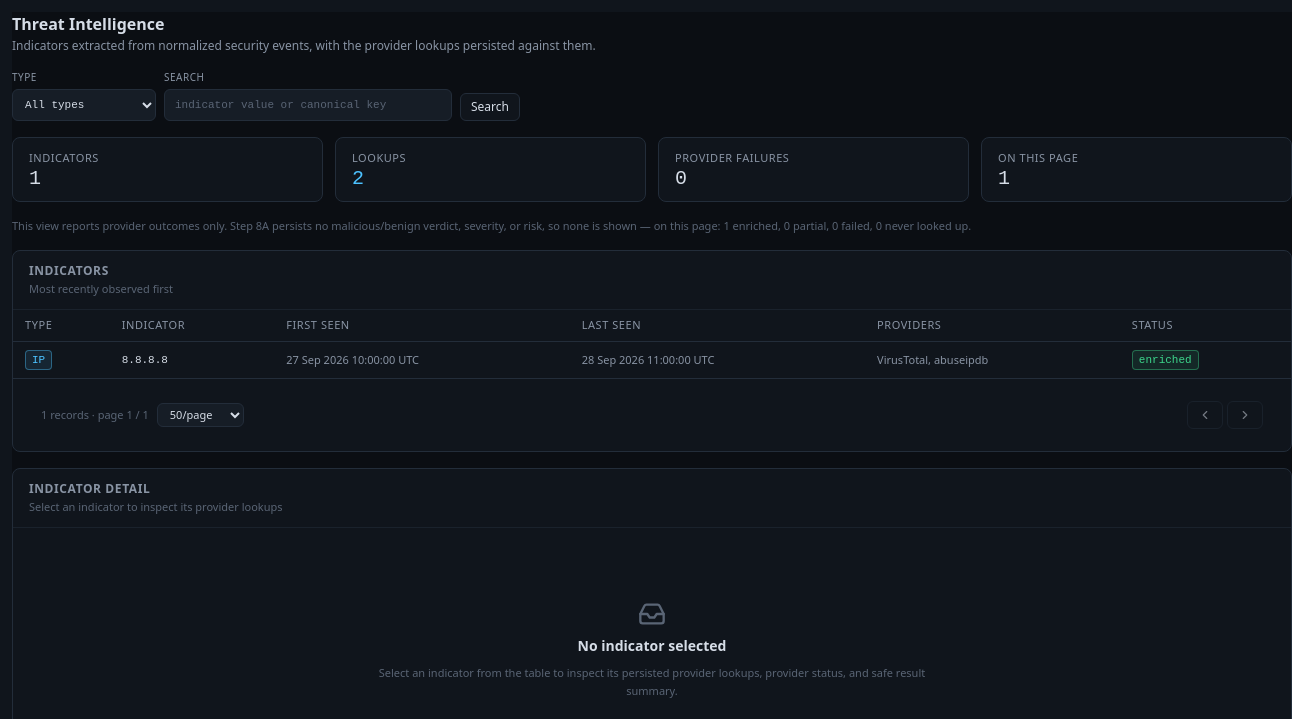
Test case: ThreatIntelPage — Step 8A read surface › clears the detail view on request
What coordinates should you click on to do the following:
click the row with test id "ti-indicator-row"
I would click on:
 (652, 360)
Its box is [13,342,1291,378].
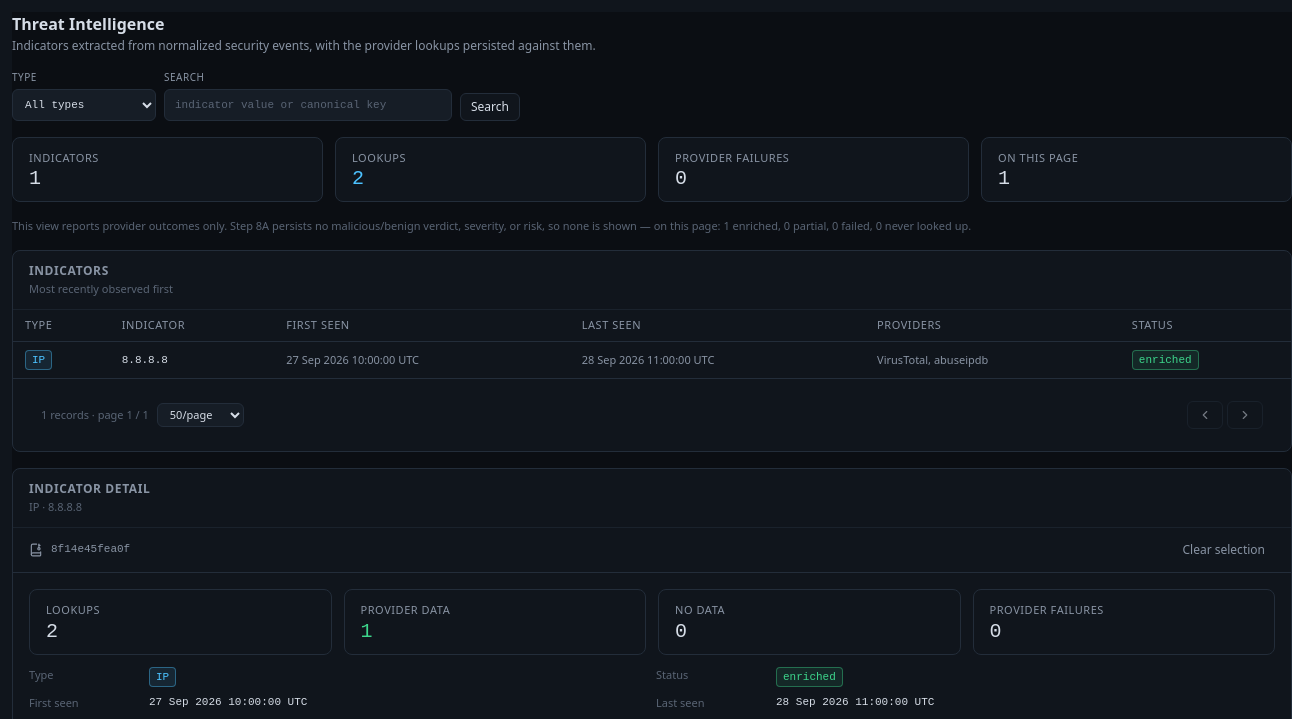
What coordinates should you click on to do the following:
click the button "Clear selection"
I would click on:
 (1224, 550)
Its box is [1172,536,1275,564].
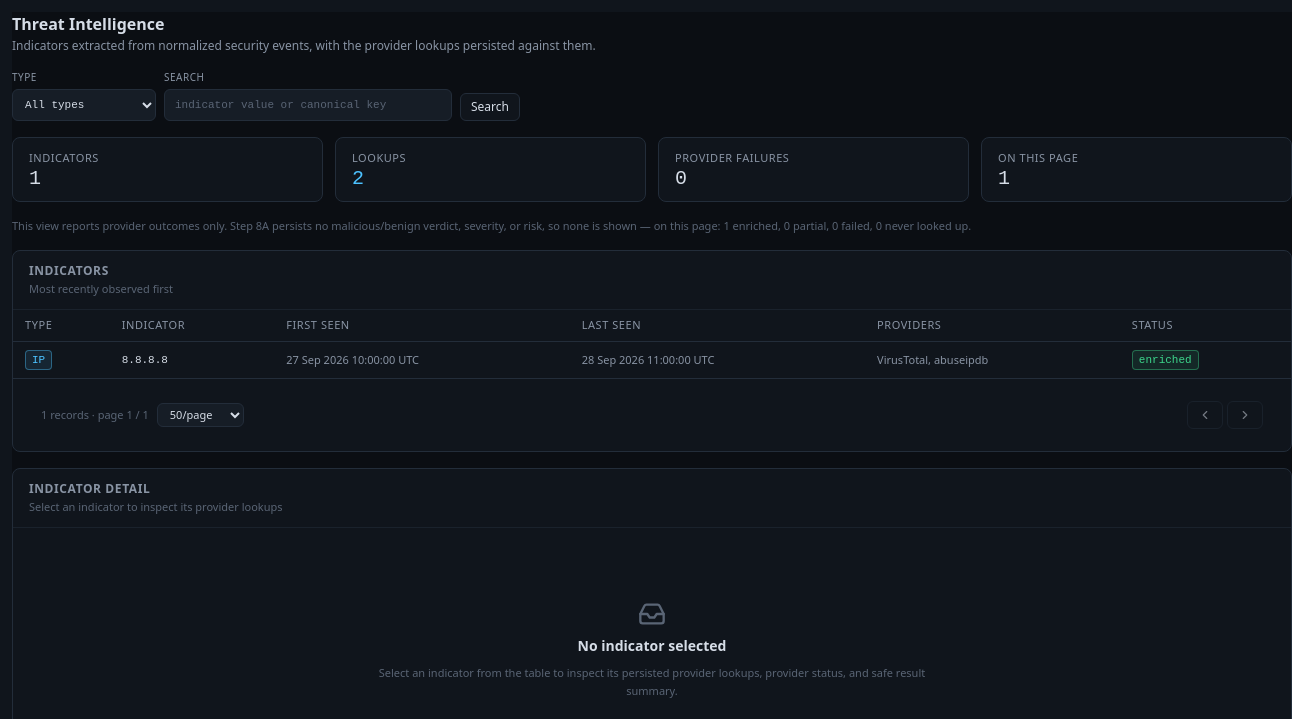
Check: the text "No indicator selected" is shown, box [578,636,726,656]
